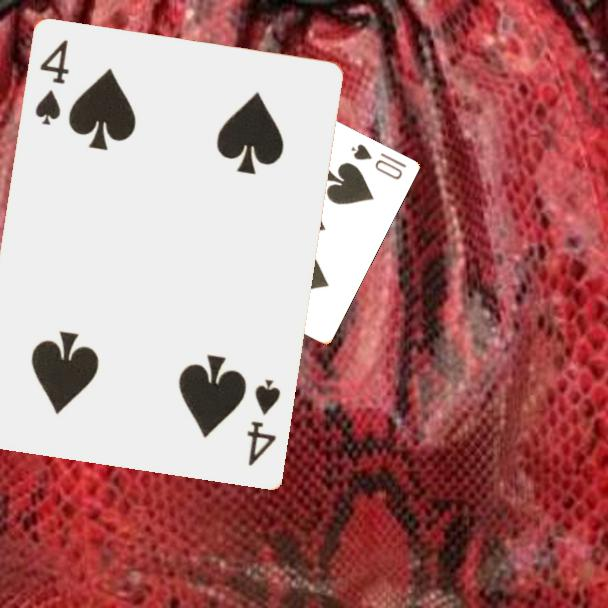s04: (31, 36, 72, 128), (243, 375, 283, 469)
s10: (347, 141, 409, 183)
